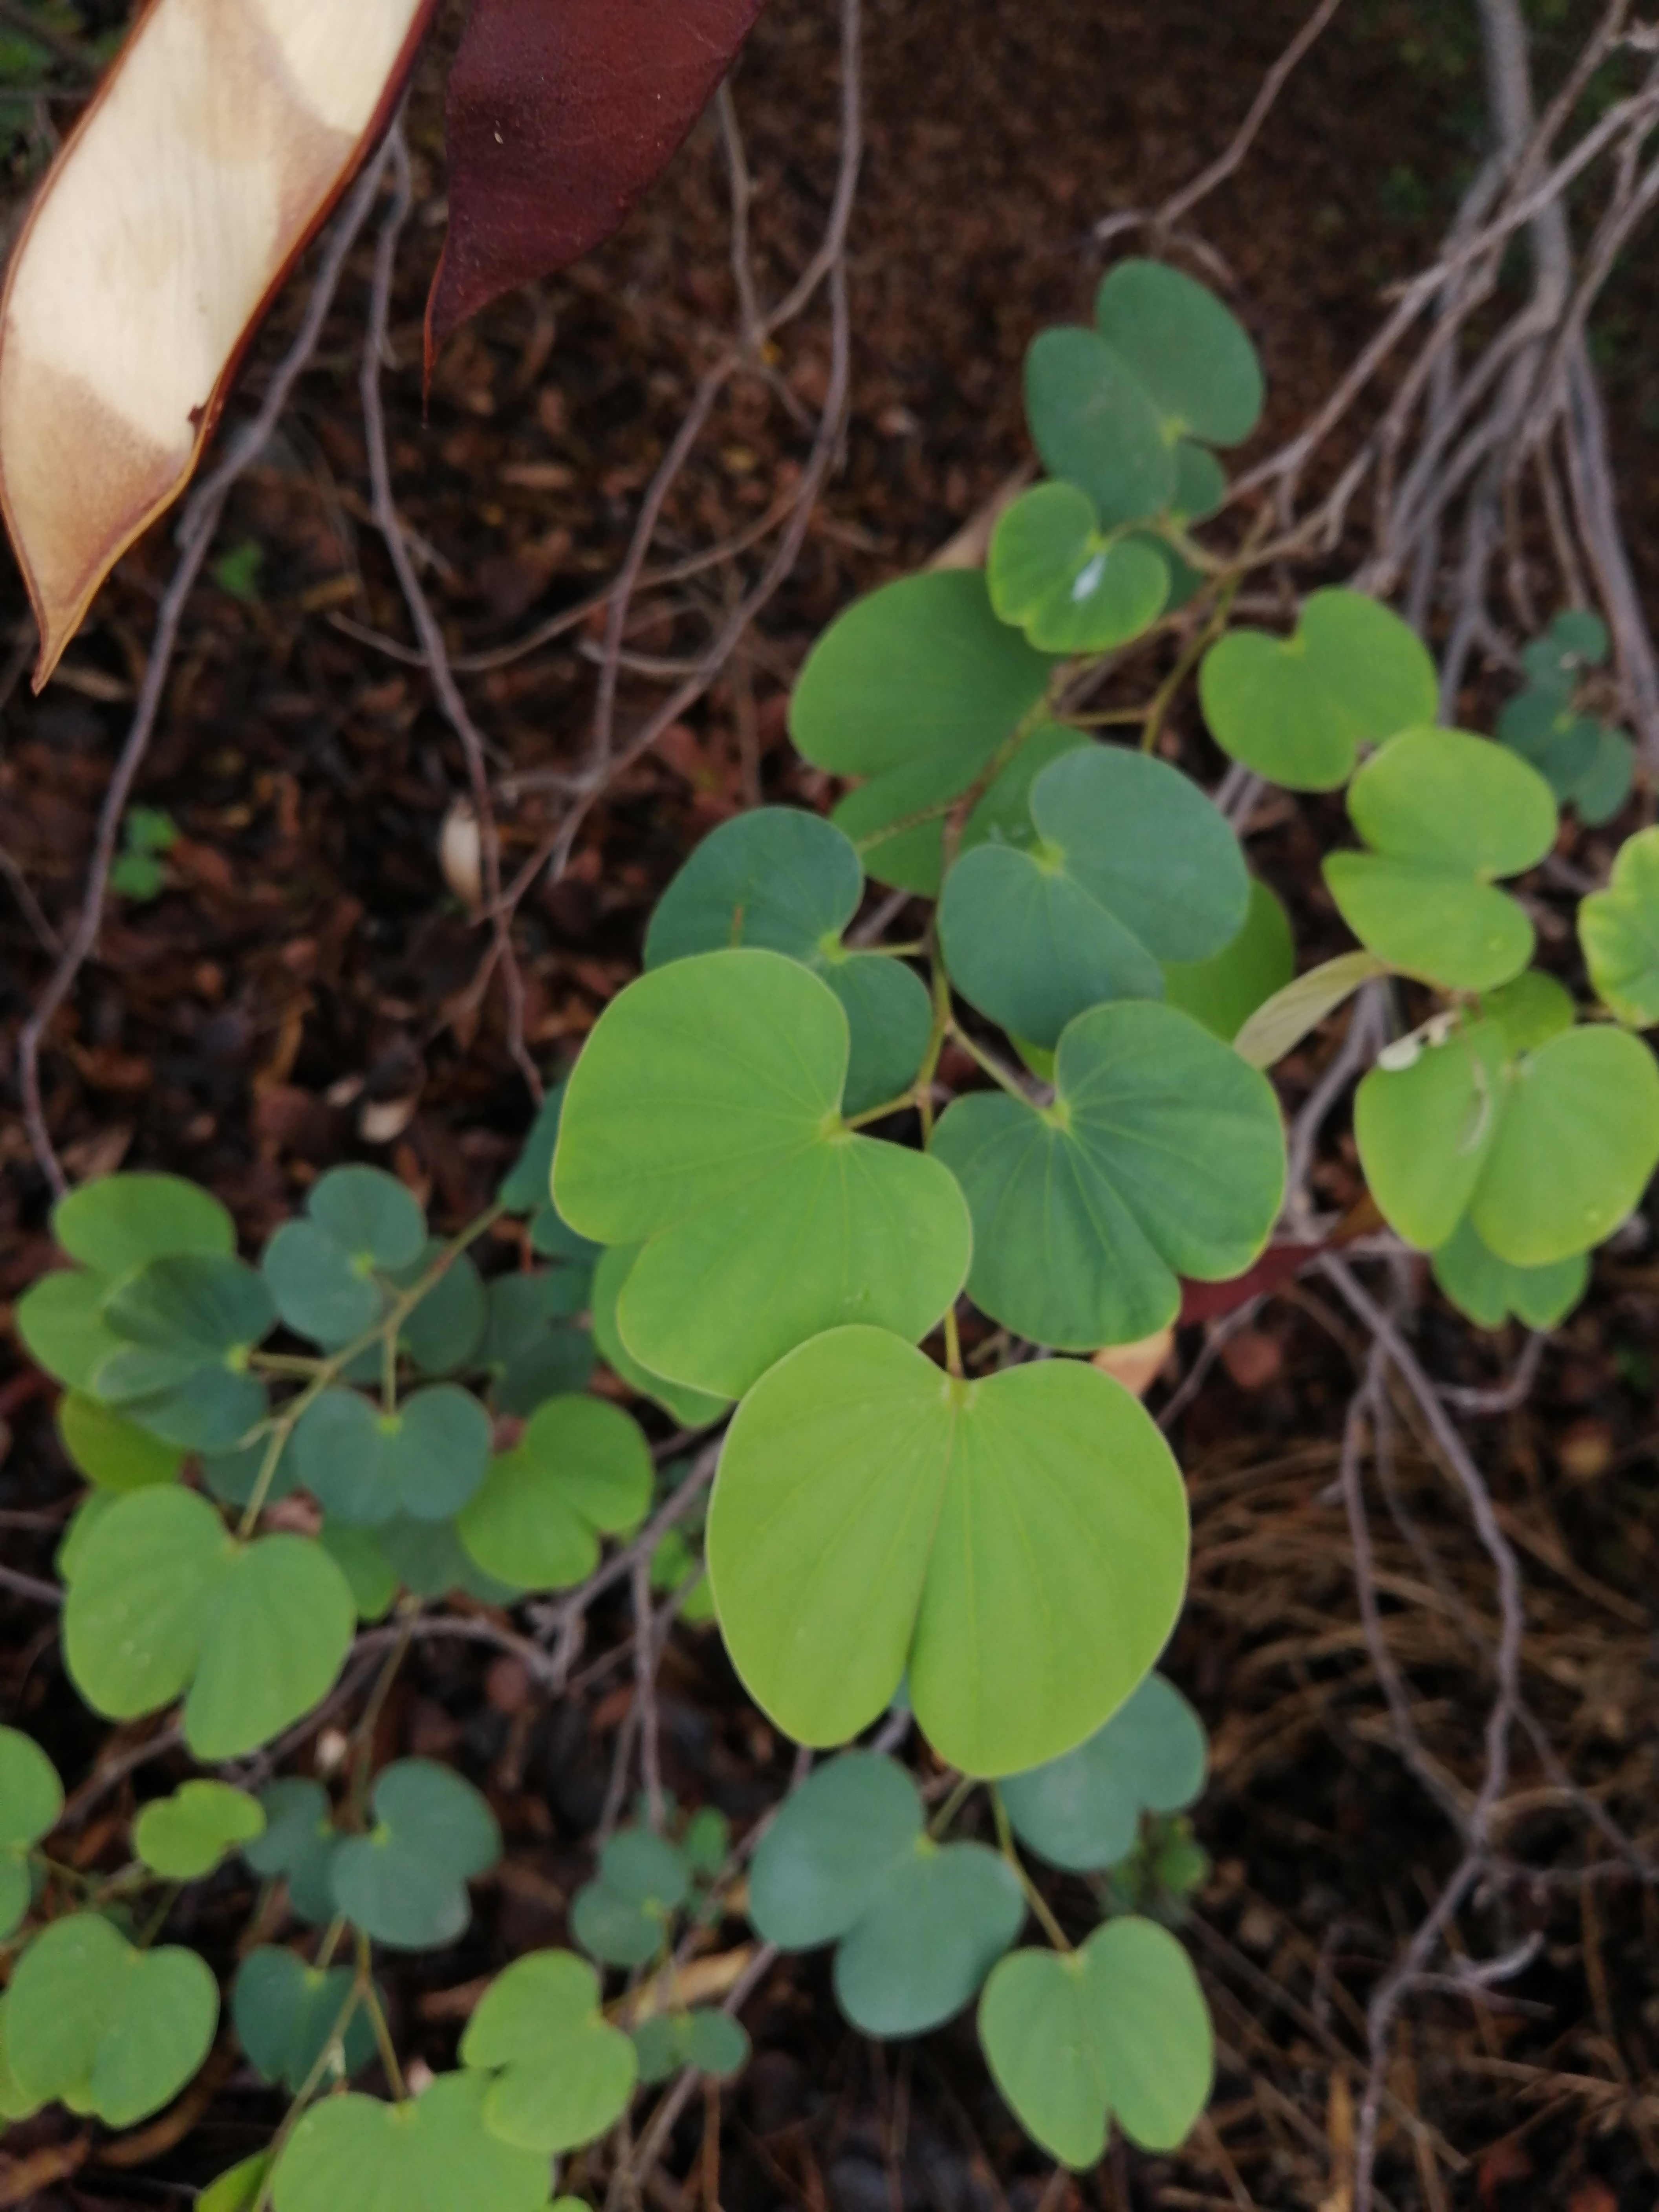healthy: (702, 1310, 1216, 1797), (532, 958, 1006, 1386), (910, 1000, 1302, 1364), (931, 723, 1270, 1038), (47, 1474, 376, 1759), (1321, 716, 1567, 1008), (978, 1921, 1237, 2184), (450, 1371, 678, 1604), (1197, 590, 1441, 806), (430, 1932, 666, 2155)
